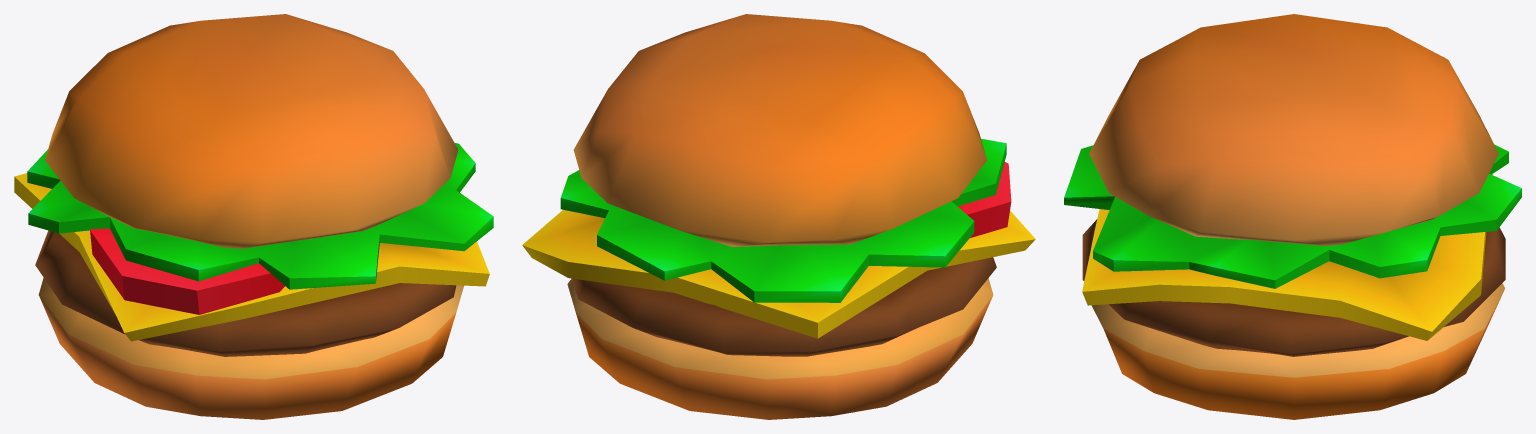
The model's file is burger.fbx.
3 views of the same model, side by side, from view 1: azimuth 30°, elevation 25°; view 2: azimuth 150°, elevation 25°; view 3: azimuth 270°, elevation 25° (orthographic).
Parts seen in each view (by area): view 1: burger; view 2: burger; view 3: burger.
Part boxes in pixels (x1,y1,x2,y2): burger: (14,14,493,419); burger: (522,14,1035,419); burger: (1064,14,1521,419).
Size of the model in its own units: 13.25 by 10.36 by 13.41.
